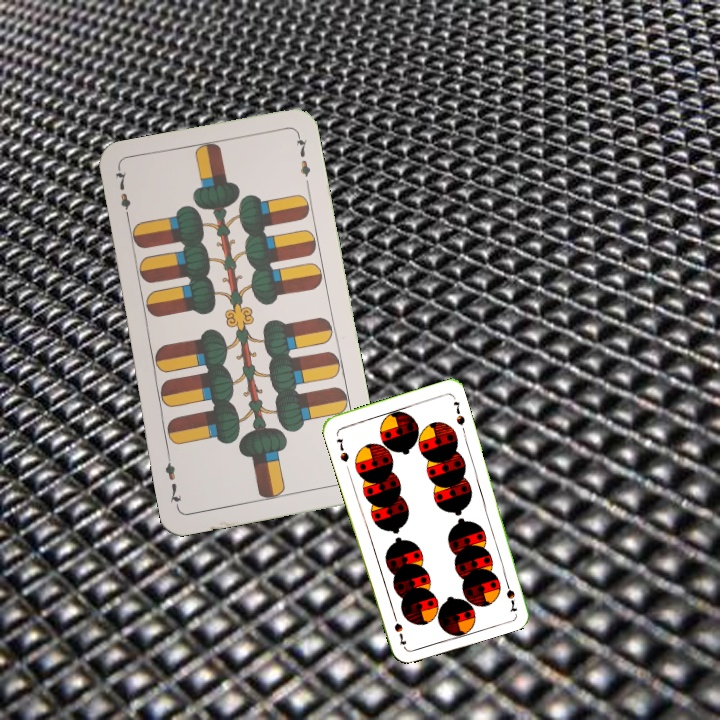E7: (112, 166, 134, 225)
S7: (501, 574, 520, 614), (332, 434, 351, 464)
